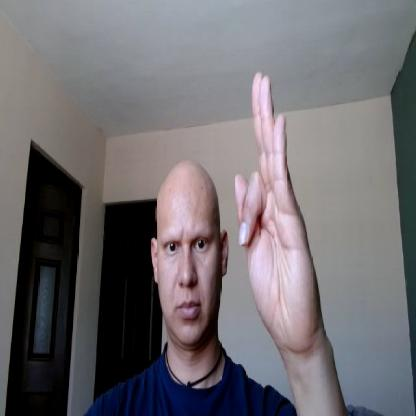F: (235, 68, 314, 350)
